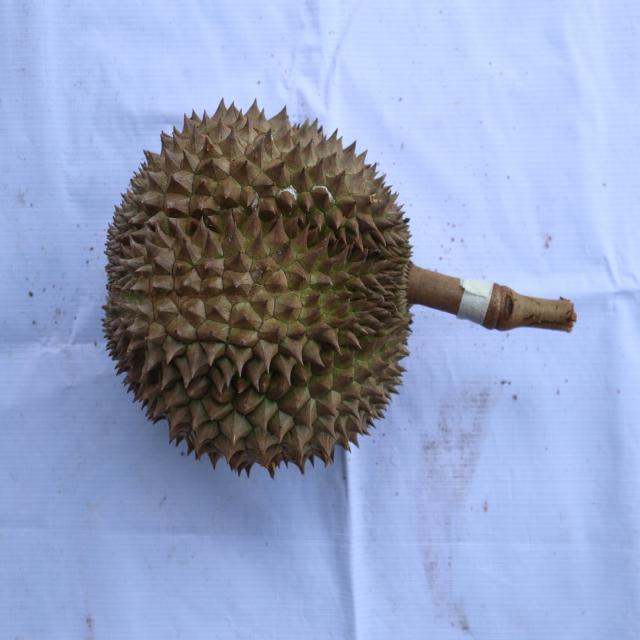mature: (104, 98, 415, 477)
